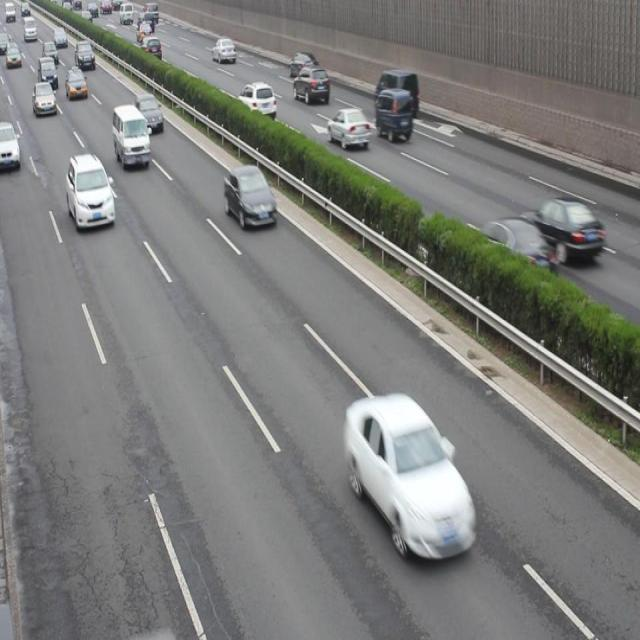car: (346, 394, 475, 564), (473, 215, 558, 284), (520, 196, 605, 261), (66, 153, 115, 231), (222, 166, 276, 227), (373, 88, 411, 141), (326, 108, 370, 149), (292, 64, 329, 102), (237, 82, 276, 117), (134, 93, 164, 132), (1, 121, 21, 169), (33, 81, 58, 116), (287, 52, 316, 80), (65, 66, 88, 99), (75, 40, 96, 70), (38, 56, 58, 87), (212, 39, 236, 64), (0, 44, 22, 70), (141, 36, 162, 62), (136, 21, 153, 43), (43, 43, 59, 65)
truck: (112, 103, 151, 170), (374, 68, 418, 116)
